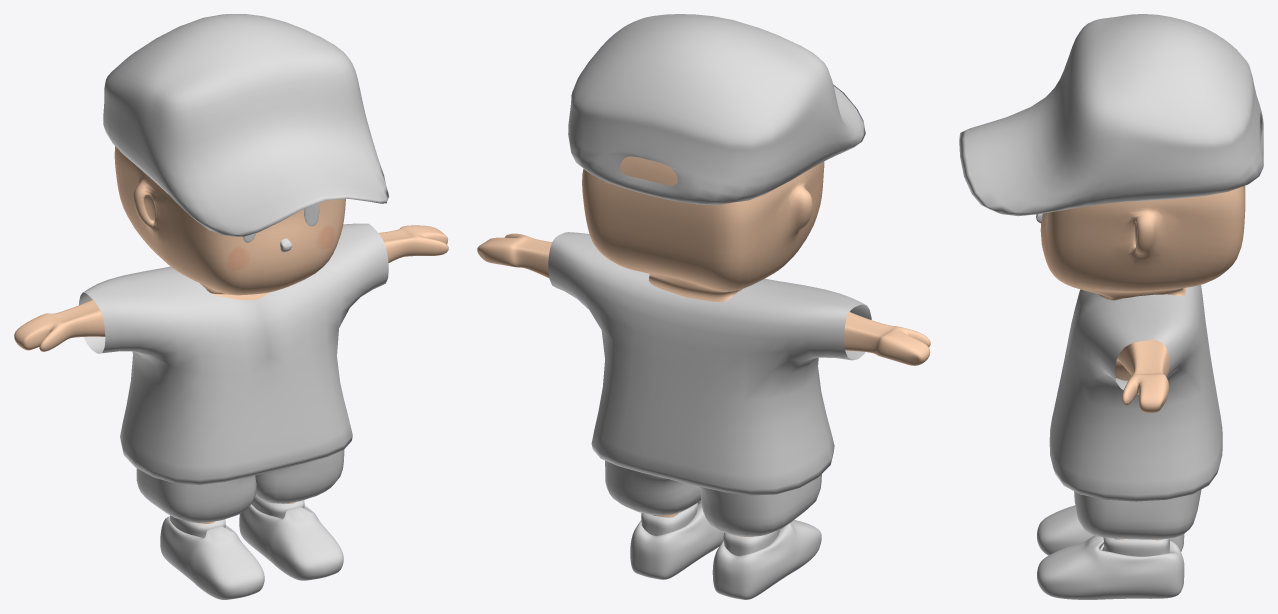
File: chico_vestimenta_basica.fbx
3 views of the same model, side by side, from view 1: azimuth 30°, elevation 25°; view 2: azimuth 150°, elevation 25°; view 3: azimuth 270°, elevation 25° (orthographic). The views are drawn at different scales.
Parts seen in each view (by area): view 1: Camiseta, Gorra, Cuerpo, Zapatillas, Jorts, Calcetines; view 2: Camiseta, Gorra, Cuerpo, Zapatillas, Jorts, Calcetines; view 3: Gorra, Camiseta, Cuerpo, Zapatillas, Jorts, Calcetines.
Part boxes in pixels (x1=…): Camiseta: x1=79, y1=223, x2=388, y2=484; Gorra: x1=103, y1=14, x2=388, y2=236; Cuerpo: x1=14, y1=146, x2=448, y2=523; Zapatillas: x1=160, y1=504, x2=343, y2=599; Jorts: x1=136, y1=450, x2=344, y2=522; Calcetines: x1=170, y1=495, x2=304, y2=537; Camiseta: x1=548, y1=232, x2=871, y2=495; Gorra: x1=568, y1=14, x2=865, y2=205; Cuerpo: x1=477, y1=156, x2=930, y2=537; Zapatillas: x1=630, y1=501, x2=821, y2=599; Jorts: x1=605, y1=460, x2=821, y2=536; Calcetines: x1=641, y1=503, x2=779, y2=555; Gorra: x1=959, y1=14, x2=1263, y2=216; Camiseta: x1=1049, y1=285, x2=1222, y2=501; Cuerpo: x1=1040, y1=186, x2=1245, y2=550; Zapatillas: x1=1037, y1=505, x2=1184, y2=599; Jorts: x1=1074, y1=489, x2=1201, y2=539; Calcetines: x1=1103, y1=537, x2=1169, y2=556.
Bounding box in the file's own units: 202 × 239 × 122.
